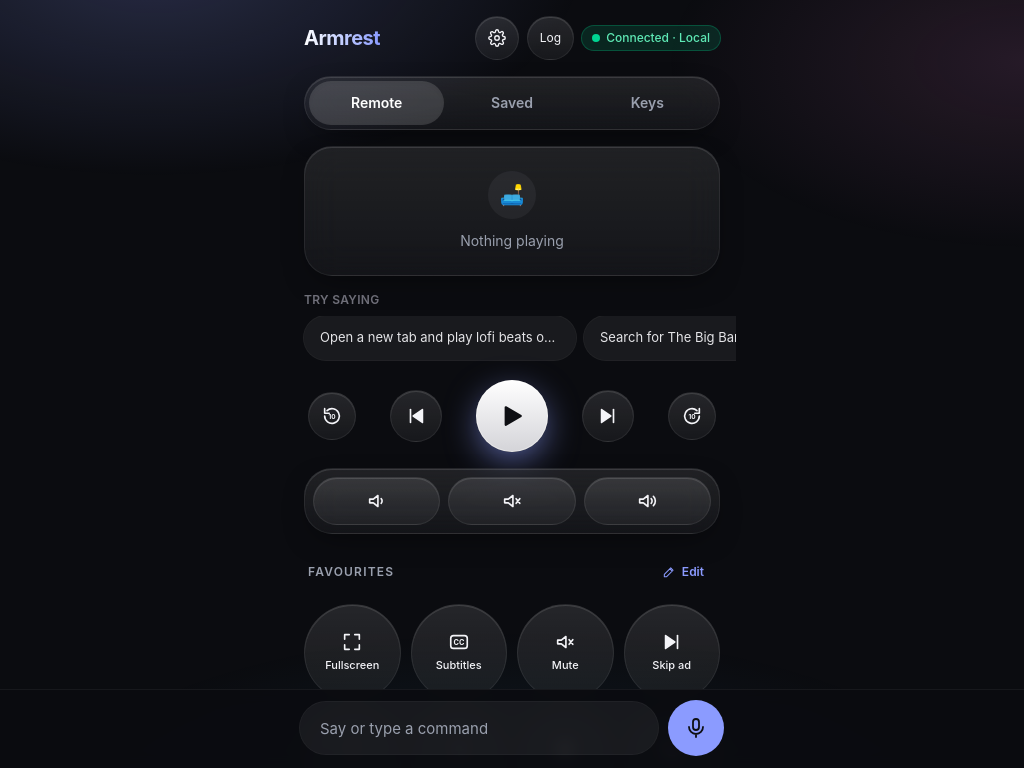
Test case: first-time pairing from a QR link › a button press goes out as a cmd.button and its result shows as a toast
Click the button named "Next" at (608, 416), box [582,390,634,442]
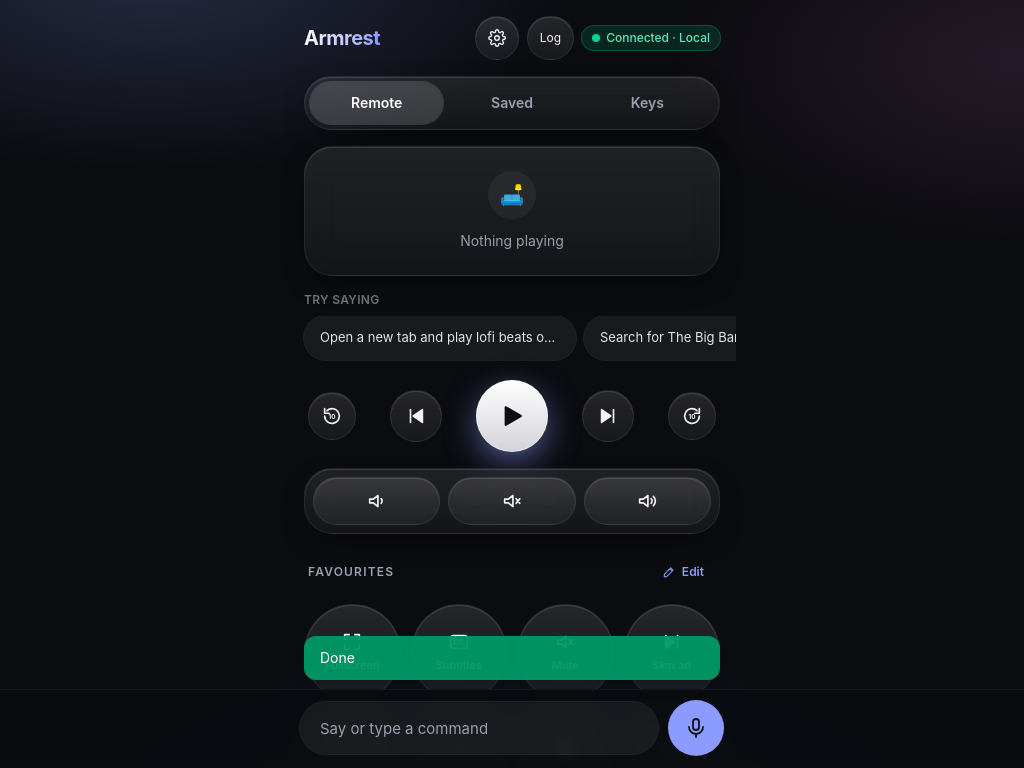
Expected: the list item "Done" is shown, [304,636,720,680]
